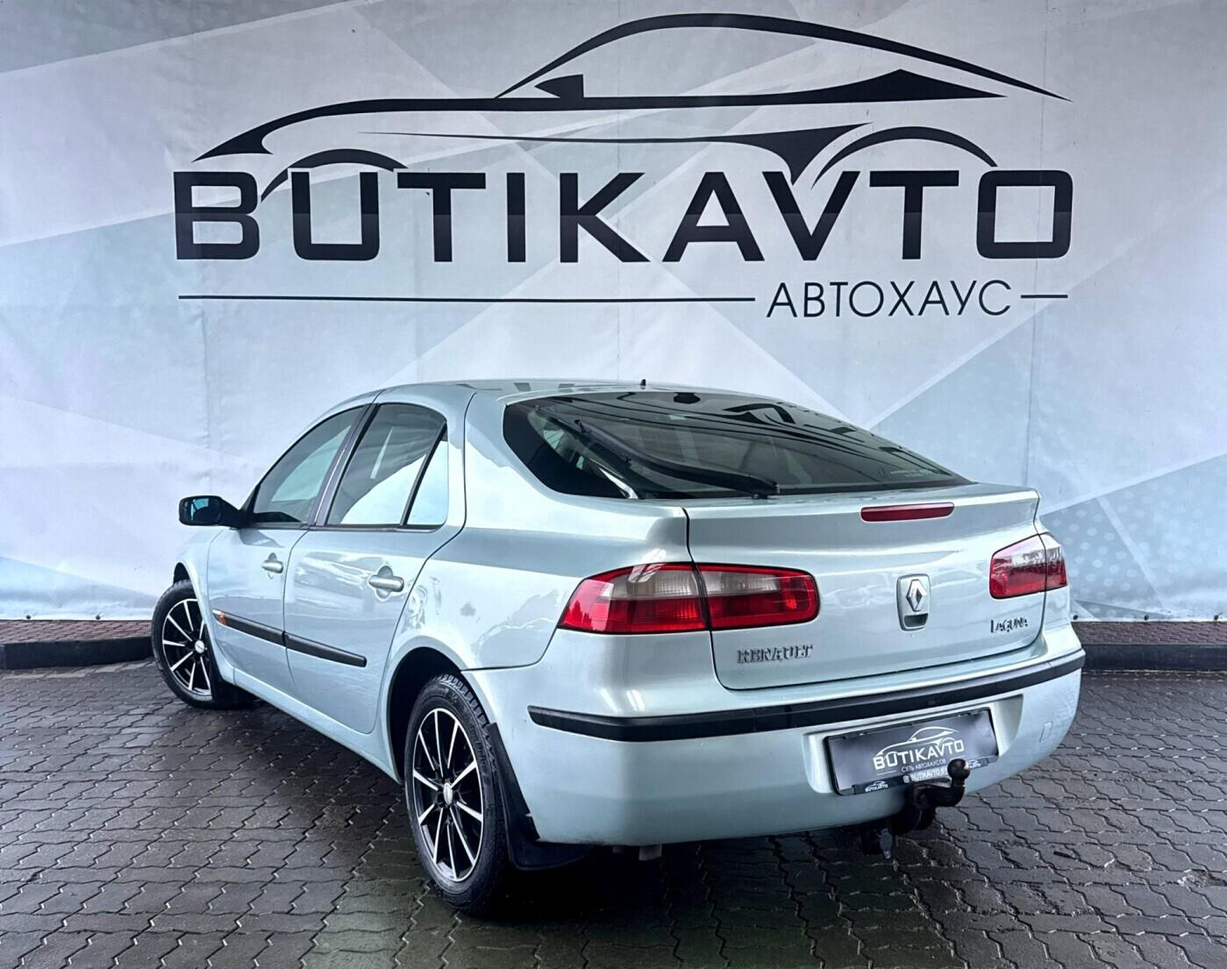Laguna_2001-2005: (152, 381, 1083, 910)
